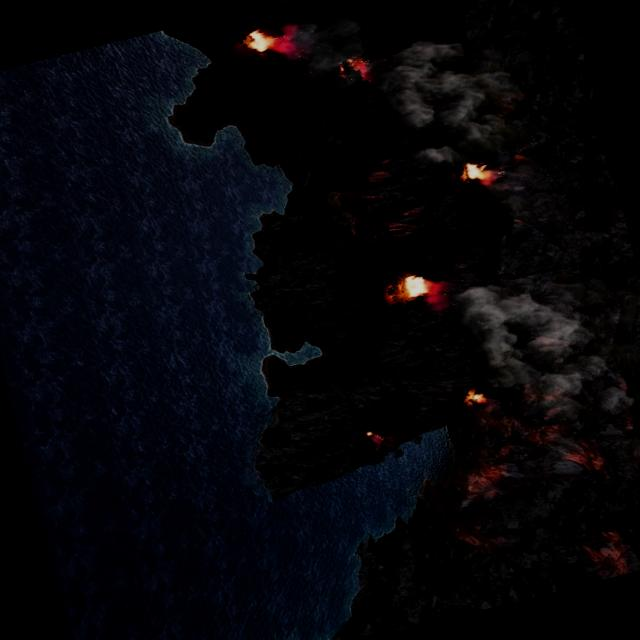fire: (399, 270, 438, 302), (242, 26, 279, 57), (458, 158, 494, 188), (342, 53, 374, 85), (362, 428, 387, 451), (464, 388, 486, 406)
smoke: (440, 247, 612, 418), (365, 22, 525, 180), (270, 8, 372, 104), (594, 379, 634, 416)
